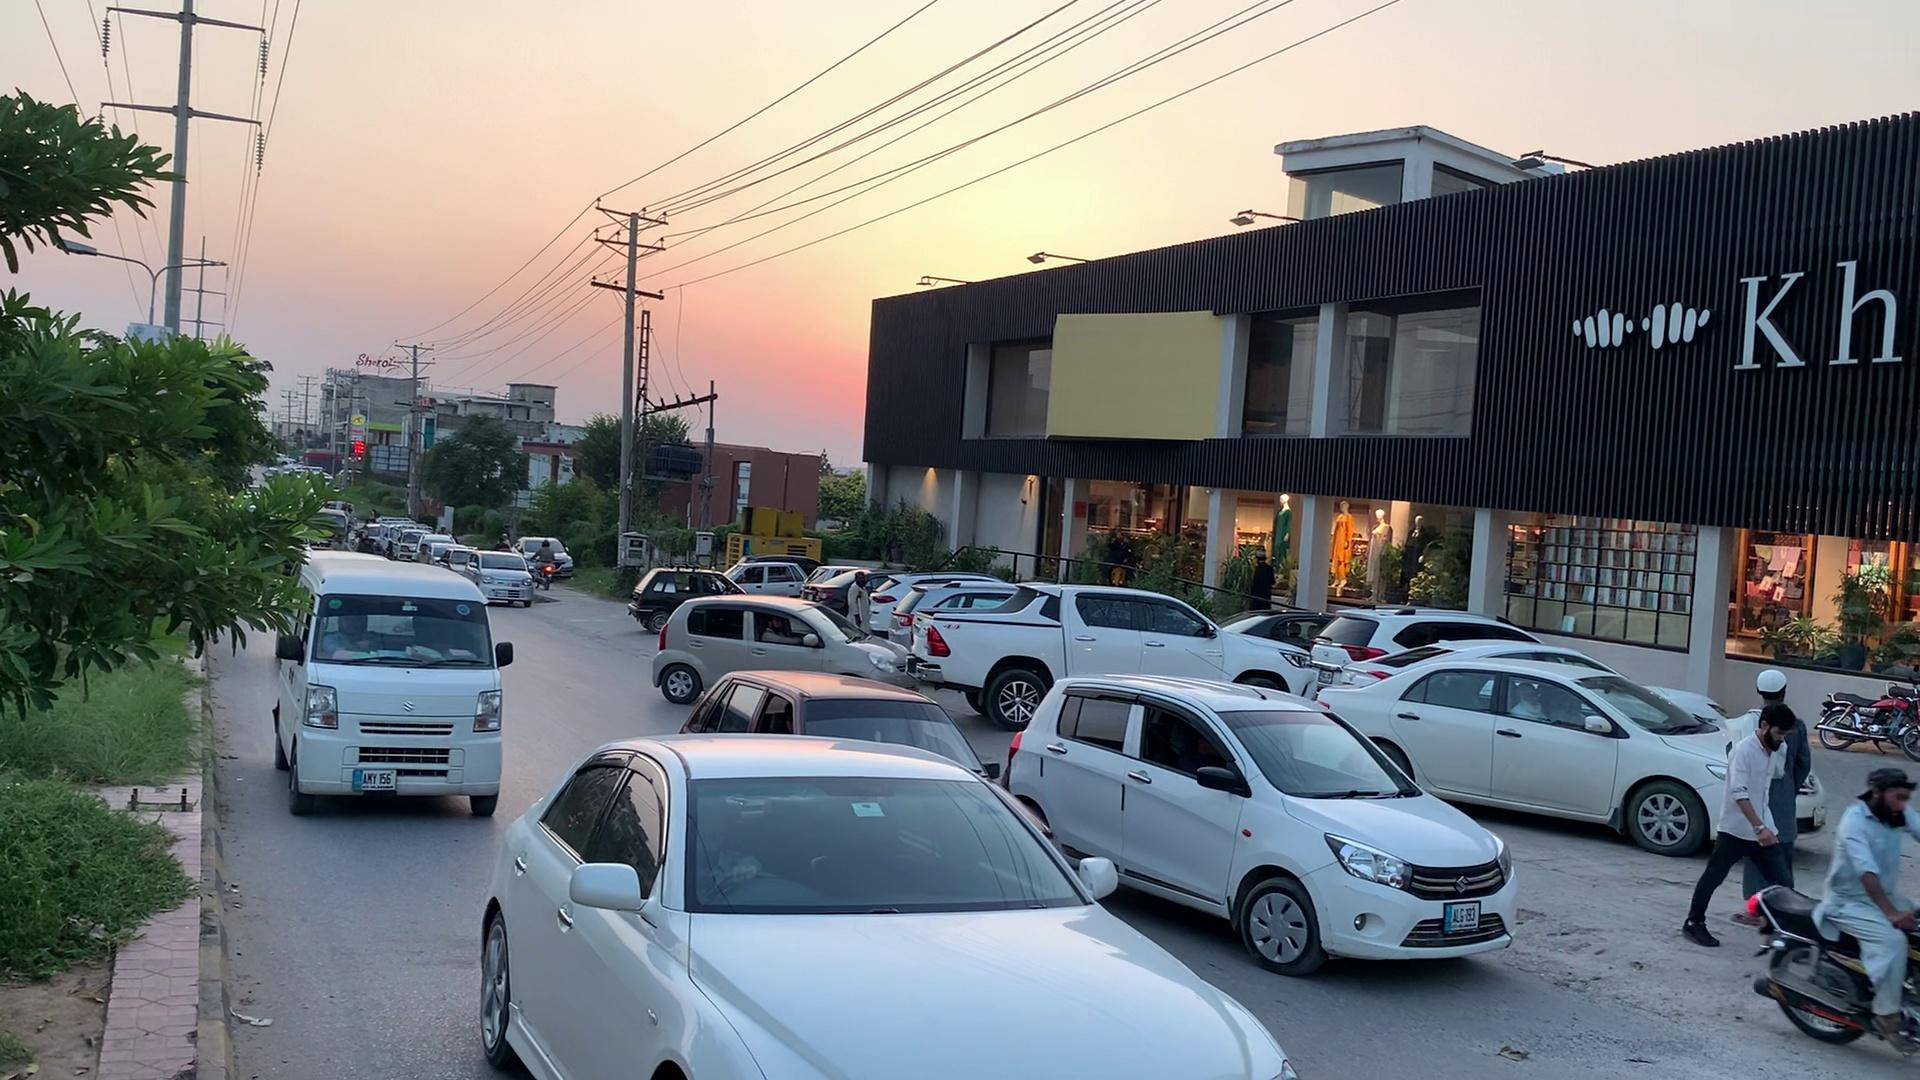windshield: (671, 764, 1121, 930), (1204, 696, 1437, 800), (301, 576, 501, 674)
